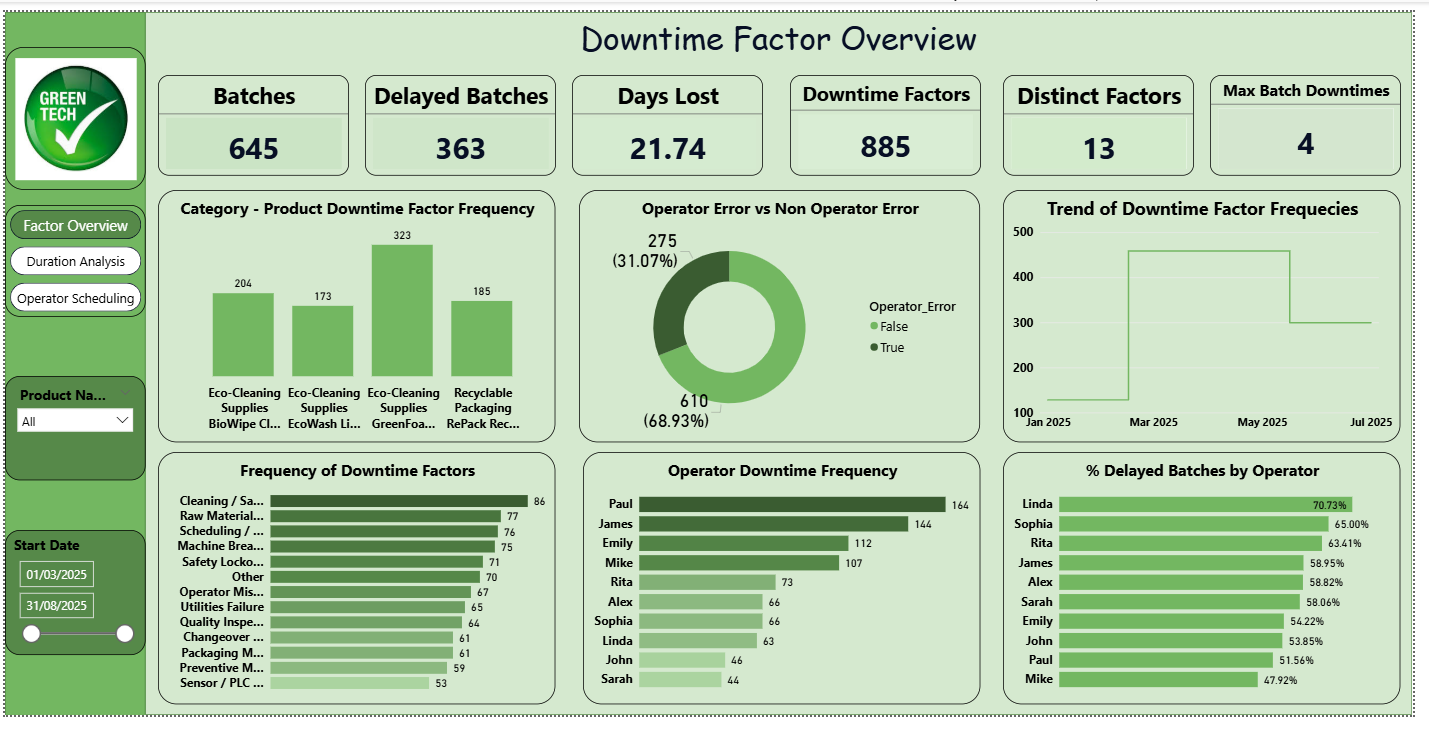

Layout of this report page (visuals, bound fields, positions):
{"tool":"powerbi","page":{"name":"Factor Overview","canvas":[1902,950],"ordinal":0},"visuals":[{"type":"shape","box":[189.2,0,1712.2,950],"z":0},{"type":"shape","box":[0,0,189.8,950.8],"z":1000},{"type":"textbox","box":[189.8,0,1711.9,950.8],"z":2000},{"type":"cardVisual","title":"Batches","fields":{"Data":["CountNonNull(batch_pd.Batch_ID)"]},"box":[206.8,84.7,257.6,135.6],"z":3000},{"type":"cardVisual","title":"Max Batch Downtimes","fields":{"Data":["downtimes.Max Downtime Per Batch"]},"box":[1628.8,84.7,257.6,135.6],"z":4000},{"type":"cardVisual","title":"Distinct Factors","fields":{"Data":["Count(downtimes.Factor_ID)"]},"box":[1349.2,84.7,257.6,135.6],"z":5000},{"type":"cardVisual","title":"Downtime Factors","fields":{"Data":["CountNonNull(downtimes.Factor_ID)"]},"box":[1061,84.7,257.6,135.6],"z":6000},{"type":"cardVisual","title":"Days Lost","fields":{"Data":["Sum(downtimes.Days)"]},"box":[766.1,84.7,257.6,135.6],"z":7000},{"type":"cardVisual","title":"Delayed Batches","fields":{"Data":["Count(downtimes.Batch_ID)"]},"box":[486.4,84.7,257.6,135.6],"z":8000},{"type":"columnChart","title":"Category - Product Downtime Factor Frequency","fields":{"Y":["CountNonNull(downtimes.Factor_ID)"],"Category":["products.Category Hierarchy.Category","products.Category Hierarchy.Product_Name"]},"box":[206.8,240.7,537.3,340.7],"z":9000},{"type":"donutChart","title":"Operator Error vs Non Operator Error","fields":{"Category":["downtime_factors.Operator_Error"],"Y":["CountNonNull(downtimes.Factor_ID)"]},"box":[776.3,240.7,542.4,340.7],"z":10000},{"type":"lineChart","title":"Trend of Downtime Factor Frequecies","fields":{"Category":["batch_pd.Start_Date.Variation.Date Hierarchy.Year","batch_pd.Start_Date.Variation.Date Hierarchy.Quarter","batch_pd.Start_Date.Variation.Date Hierarchy.Month","batch_pd.Start_Date.Variation.Date Hierarchy.Day"],"Y":["CountNonNull(downtimes.Factor_ID)"]},"box":[1349.2,240.7,537.3,340.7],"z":11000},{"type":"barChart","title":"Frequency of Downtime Factors","fields":{"Category":["downtime_factors.Factor_Name"],"Y":["CountNonNull(downtimes.Factor_ID)"]},"box":[206.8,594.9,537.3,340.7],"z":12000},{"type":"barChart","title":"Operator Downtime Frequency","fields":{"Y":["CountNonNull(downtimes.Factor_ID)"],"Category":["batch_pd.Operator"]},"box":[781.4,594.9,537.3,340.7],"z":13000},{"type":"barChart","title":"% Delayed Batches by Operator","fields":{"Y":["downtimes.Delayed Batched %"],"Category":["batch_pd.Operator"]},"box":[1349.2,594.9,537.3,340.7],"z":14000},{"type":"slicer","fields":{"Values":["products.Product_Name"]},"box":[0,491.5,189.8,140.7],"z":15000},{"type":"slicer","title":"Start Date","fields":{"Values":["batch_pd.Start_Date"]},"box":[0,700,189.8,169.5],"z":16000},{"type":"image","box":[0,47.5,189.8,193.2],"z":17000},{"type":"pageNavigator","box":[0,261,189.8,150.8],"z":18000}]}

Visuals, with their boxes in screenshot pixels (x1, y1, x2, y2), scaled from the page's 1902x950 canvas onto the 1429x735 screenshot:
shape: bbox=[142, 0, 1428, 734]
shape: bbox=[0, 0, 143, 734]
textbox: bbox=[143, 0, 1428, 734]
"Batches" cardVisual: bbox=[155, 66, 349, 170]
"Max Batch Downtimes" cardVisual: bbox=[1224, 66, 1417, 170]
"Distinct Factors" cardVisual: bbox=[1014, 66, 1207, 170]
"Downtime Factors" cardVisual: bbox=[797, 66, 991, 170]
"Days Lost" cardVisual: bbox=[576, 66, 769, 170]
"Delayed Batches" cardVisual: bbox=[365, 66, 559, 170]
"Category - Product Downtime Factor Frequency" columnChart: bbox=[155, 186, 559, 450]
"Operator Error vs Non Operator Error" donutChart: bbox=[583, 186, 991, 450]
"Trend of Downtime Factor Frequecies" lineChart: bbox=[1014, 186, 1417, 450]
"Frequency of Downtime Factors" barChart: bbox=[155, 460, 559, 724]
"Operator Downtime Frequency" barChart: bbox=[587, 460, 991, 724]
"% Delayed Batches by Operator" barChart: bbox=[1014, 460, 1417, 724]
slicer - products.Product_Name: bbox=[0, 380, 143, 489]
"Start Date" slicer: bbox=[0, 542, 143, 673]
image: bbox=[0, 37, 143, 186]
pageNavigator: bbox=[0, 202, 143, 319]
